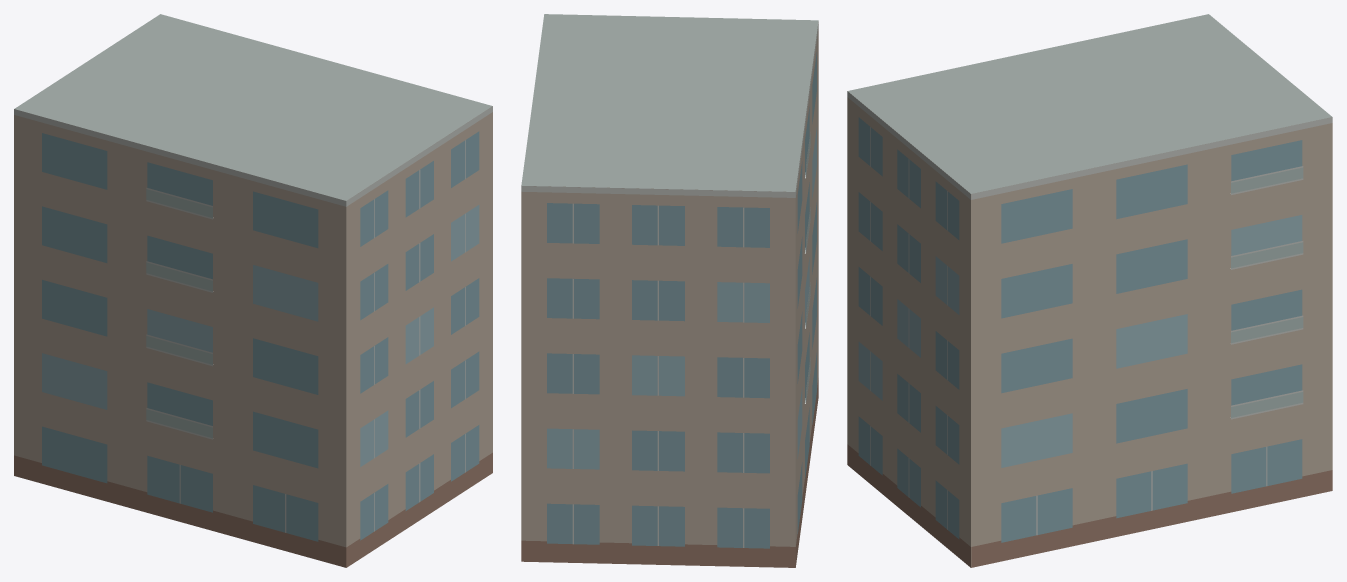
The model's file is survey-upis-32627439.glb.
3 views of the same model, side by side, from view 1: azimuth 30°, elevation 25°; view 2: azimuth 150°, elevation 25°; view 3: azimuth 270°, elevation 25° (orthographic). The views are drawn at different scales.
Parts seen in each view (by area): view 1: survey-upis-32627439.tmp; view 2: survey-upis-32627439.tmp; view 3: survey-upis-32627439.tmp.
Part boxes in pixels (x1,y1,x2,y2): survey-upis-32627439.tmp: [14, 14, 492, 567]; survey-upis-32627439.tmp: [521, 14, 818, 567]; survey-upis-32627439.tmp: [847, 14, 1332, 567].
Bounding box in the file's own units: 15.76 × 15.25 × 17.94.
